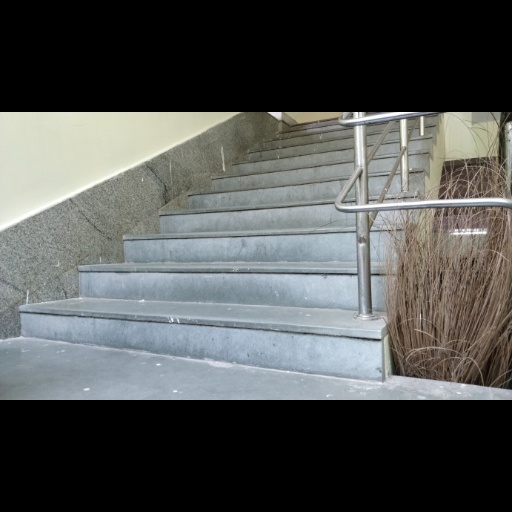Stairs: (22, 119, 384, 394)
